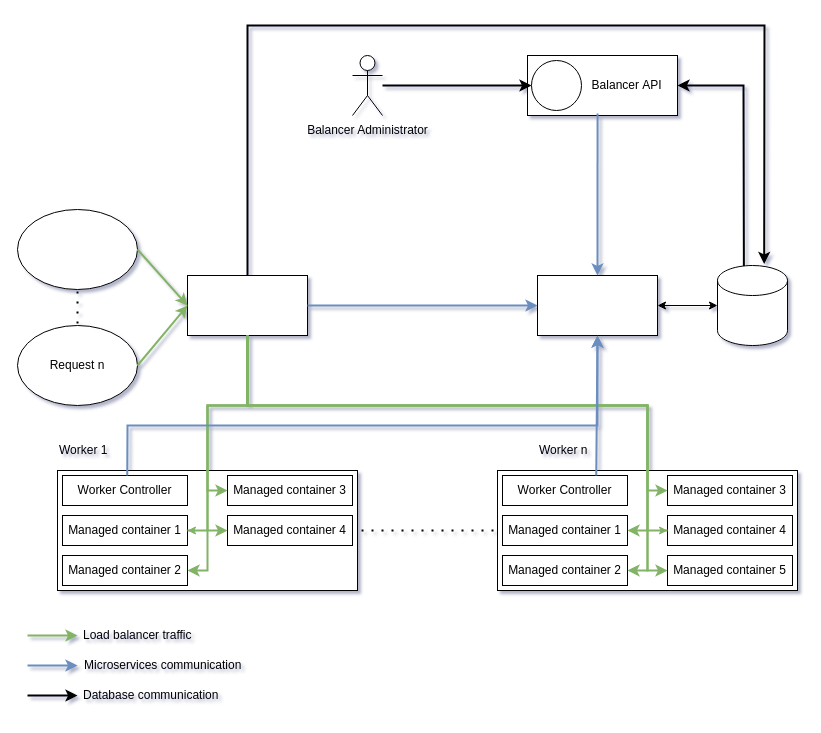
Some shapes in this 821 by 733 pixel diagram are drawn without their labels. The box of each missing label's shape, as (x1, y1, x2, y2) in pixels:
Load Balancer: (186, 274, 308, 336)
PostgreSql: (716, 264, 788, 346)
Request 1: (16, 208, 138, 290)
Scaling Controller: (536, 274, 658, 336)
UI: (530, 60, 582, 110)
